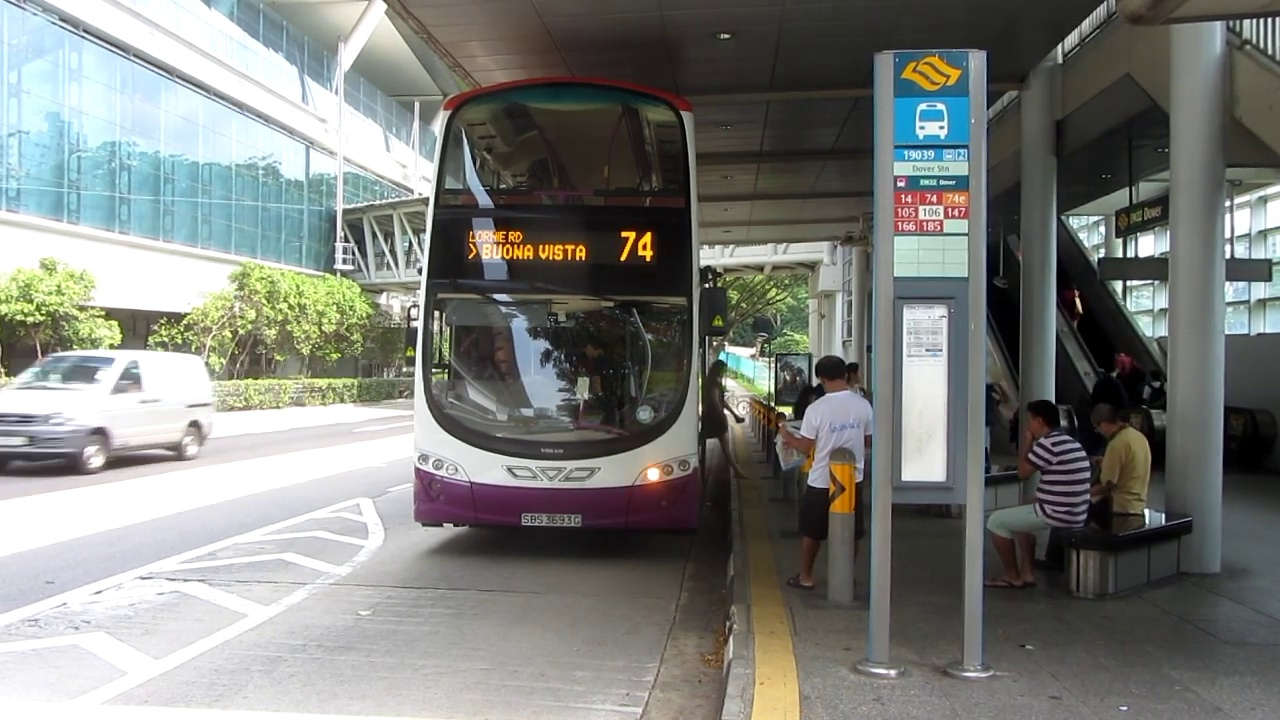bus panel: (461, 225, 660, 268)
